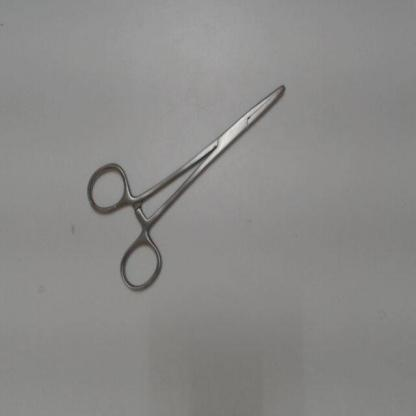Mayo Needle Holder: (78, 63, 305, 305)
